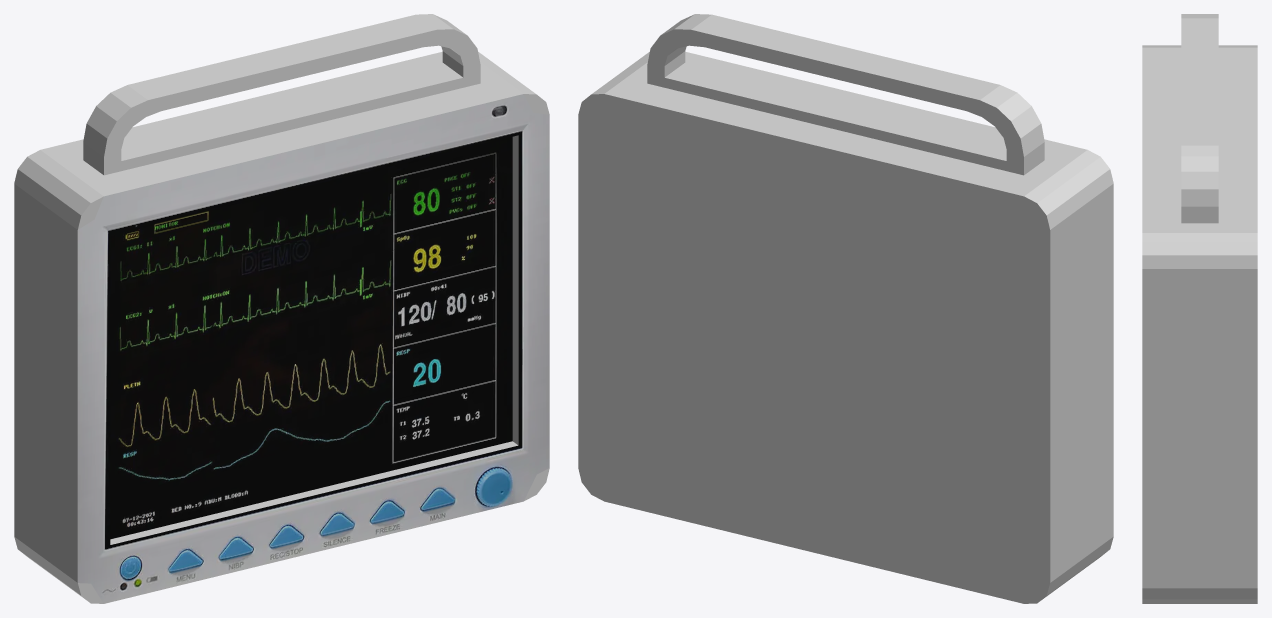
File: BMA03.fbx
3 renders of one model, left to right at view 1: azimuth 30°, elevation 25°; view 2: azimuth 150°, elevation 25°; view 3: azimuth 270°, elevation 25°, orthographic. The views are drawn at different scales.
Parts seen in each view (by area): view 1: BMA03; view 2: BMA03; view 3: BMA03.
Part boxes in pixels (bbox=[...]): BMA03: bbox=[14, 14, 549, 603]; BMA03: bbox=[578, 14, 1113, 603]; BMA03: bbox=[1142, 14, 1257, 603].
Bounding box in the file's own units: 31.48 × 30.09 × 7.35.
Materials: 2 (1 with a texture image).
